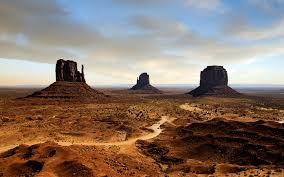ground: (3, 86, 283, 174)
sky: (3, 1, 284, 86)
